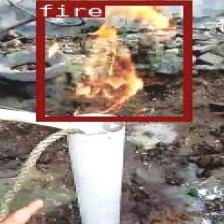fire: (34, 0, 188, 120)
